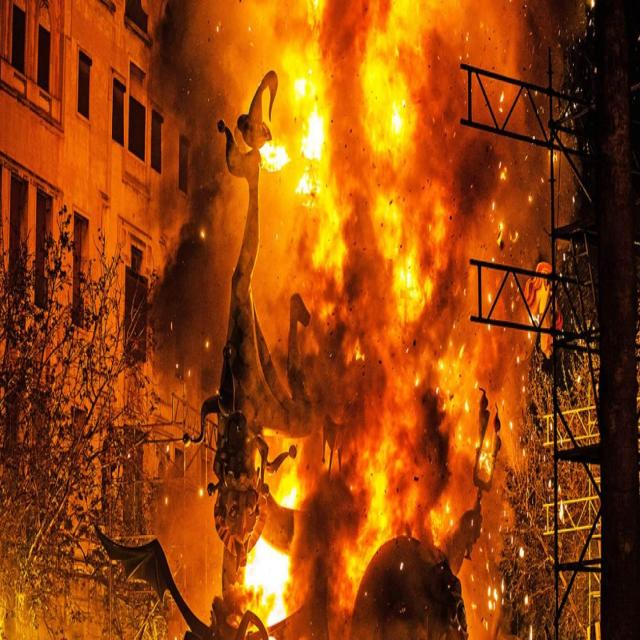Fire: (216, 24, 528, 639)
